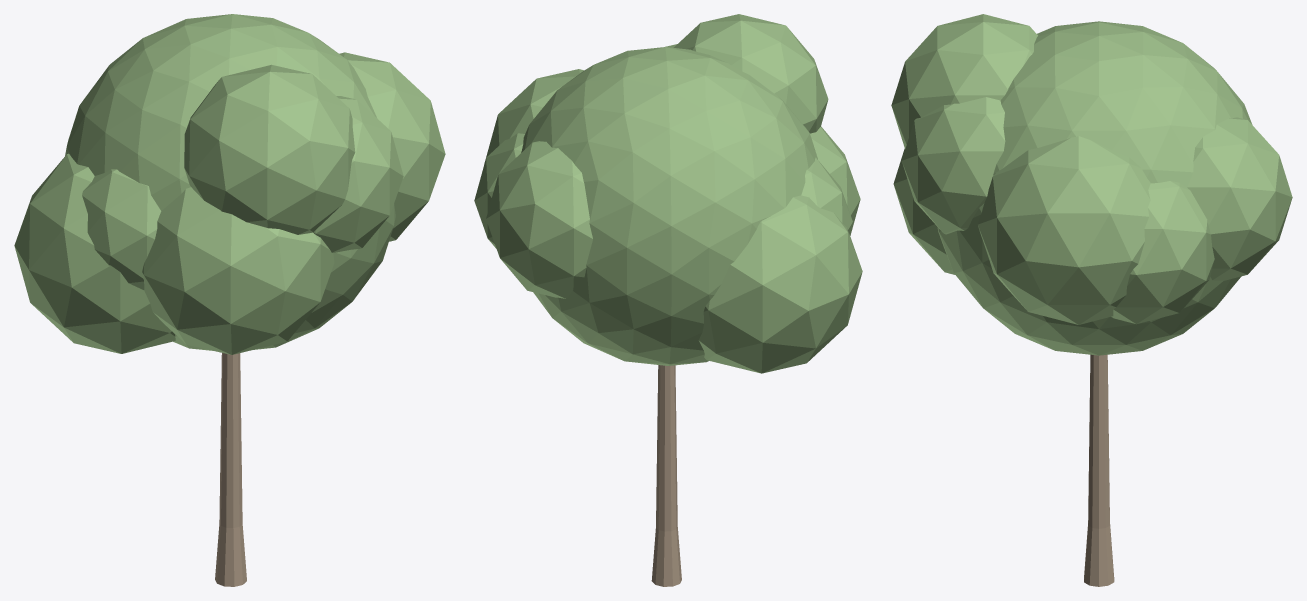
File: tree.glb
3 views of the same model, side by side, from view 1: azimuth 30°, elevation 25°; view 2: azimuth 150°, elevation 25°; view 3: azimuth 270°, elevation 25° (orthographic). The views are drawn at different scales.
Parts seen in each view (by area): view 1: tree_leaf, tree_bark; view 2: tree_leaf, tree_bark; view 3: tree_leaf, tree_bark.
Boxes of the visible parts, x1,y1,x2,y2 form: tree_leaf: [14, 14, 445, 354]; tree_bark: [215, 353, 246, 586]; tree_leaf: [474, 14, 862, 373]; tree_bark: [651, 365, 681, 586]; tree_leaf: [891, 14, 1292, 355]; tree_bark: [1084, 354, 1114, 586].
Size of the model in its own units: 4.99 by 6.84 by 4.53.
